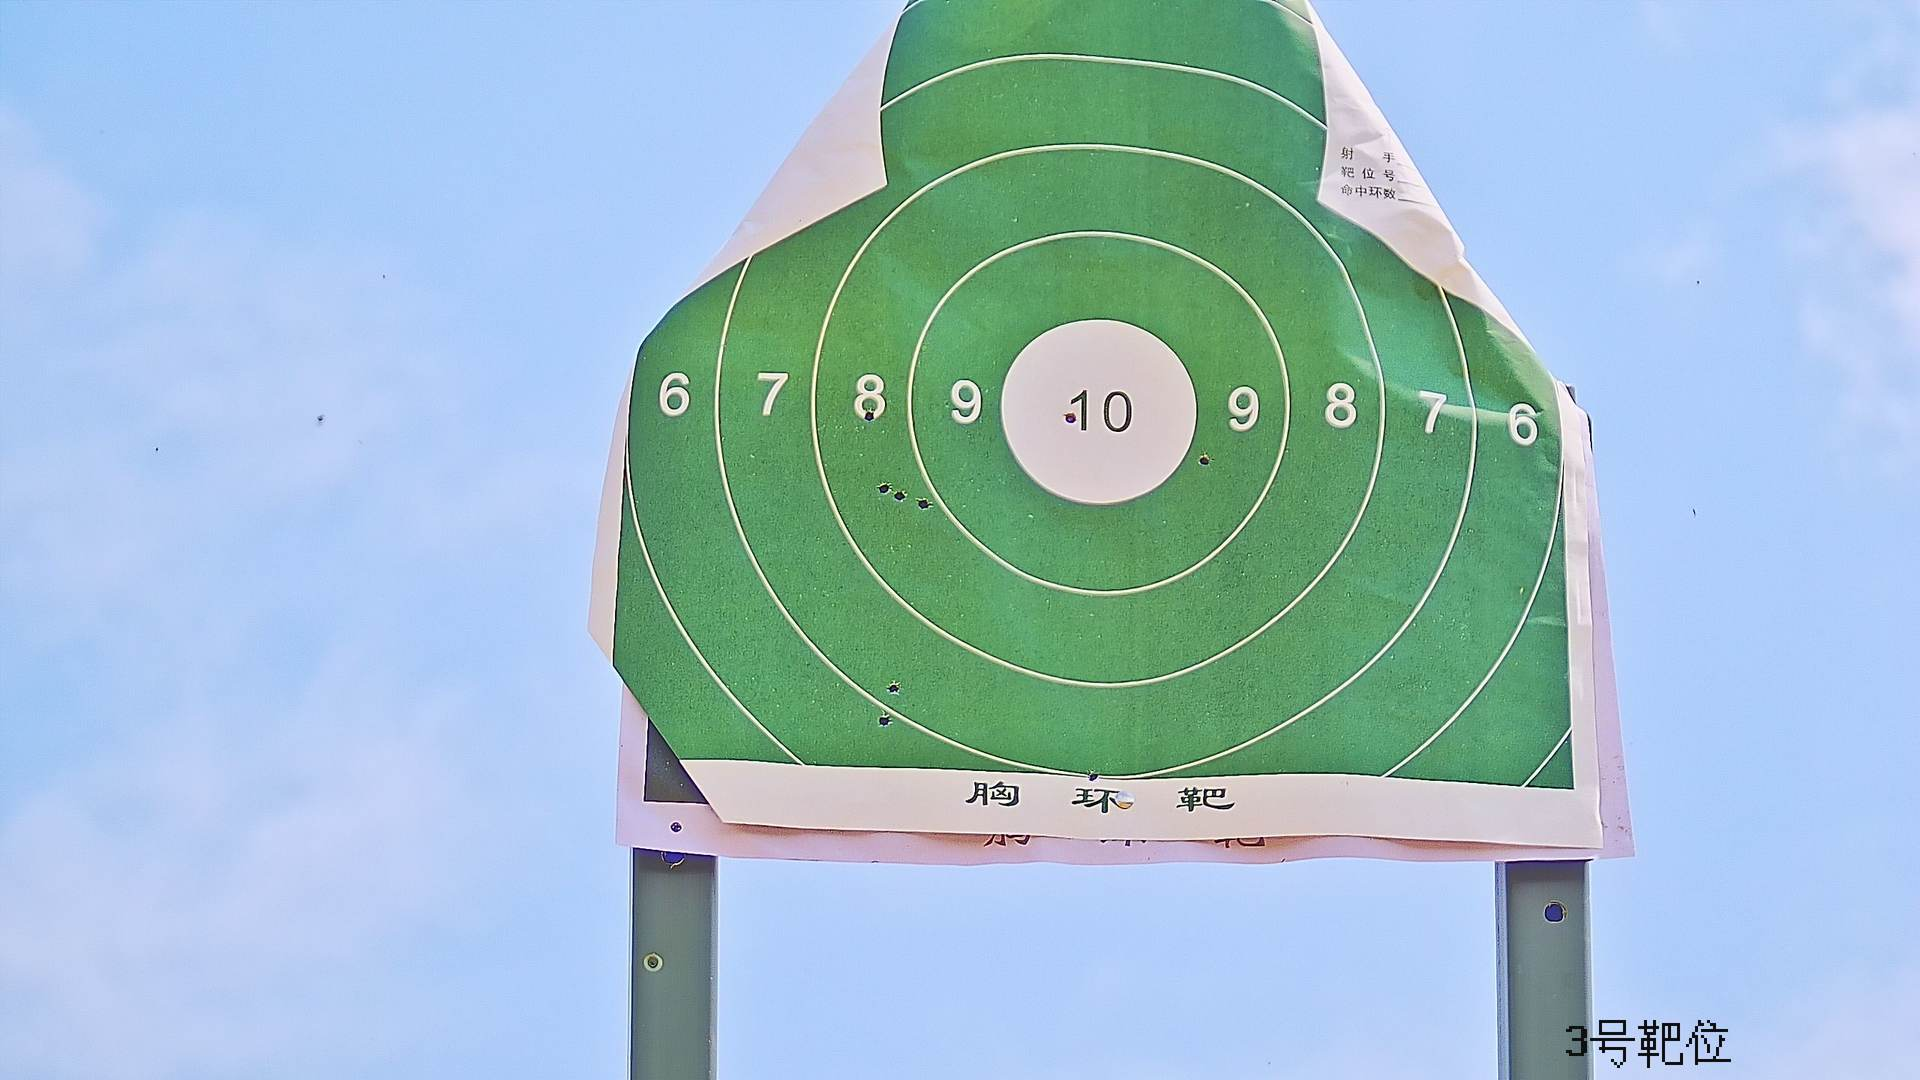hole: (887, 682, 901, 696), (878, 712, 891, 727), (1063, 411, 1076, 425), (918, 497, 930, 510), (1199, 454, 1211, 465), (877, 481, 890, 492), (893, 491, 906, 501), (864, 409, 874, 421), (1089, 770, 1097, 782)
kernel: (1096, 411, 1102, 417)
target: (615, 1, 1578, 794)
ten: (1001, 315, 1199, 505)
